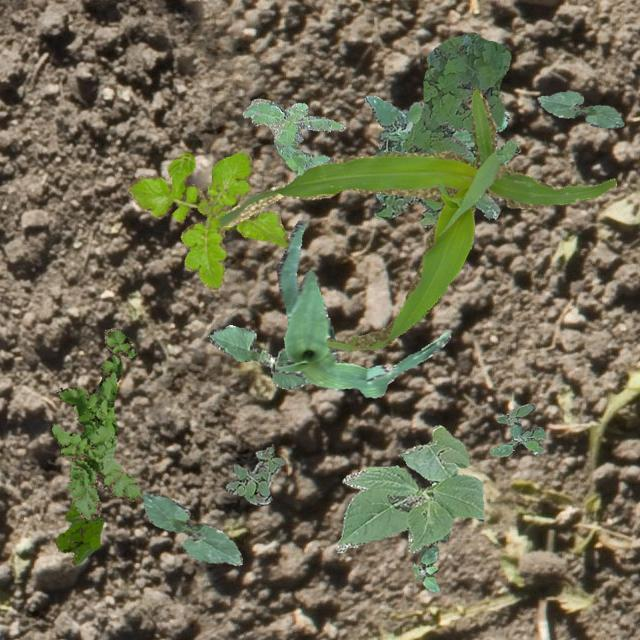crop: (218, 87, 614, 350), (274, 220, 448, 396), (336, 424, 482, 552), (140, 492, 242, 564), (208, 324, 308, 388), (536, 90, 622, 126), (417, 534, 447, 558)
weed: (126, 150, 288, 290), (50, 326, 140, 518), (374, 110, 516, 227), (402, 32, 509, 154), (242, 98, 344, 174), (363, 94, 422, 154), (224, 446, 284, 504), (54, 498, 102, 564), (488, 402, 544, 456), (374, 140, 397, 203), (412, 546, 438, 592)
